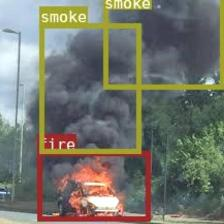fire: (37, 150, 149, 220)
smoke: (39, 23, 140, 153), (103, 0, 223, 88)
